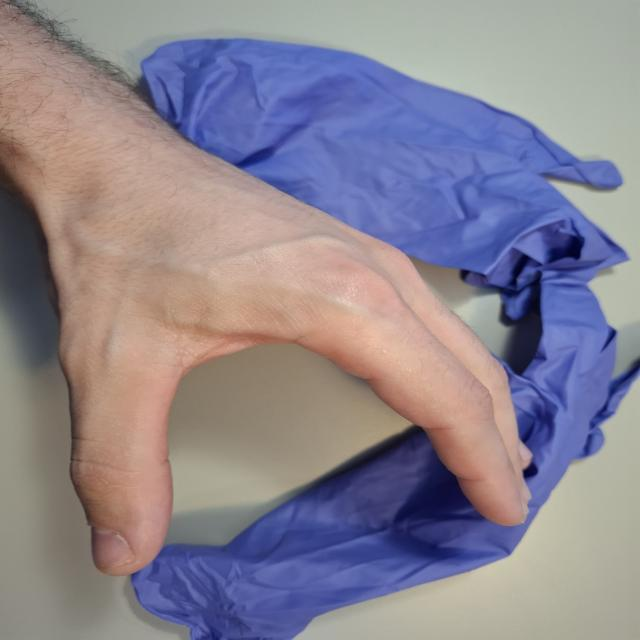glove_off: (26, 135, 536, 579)
